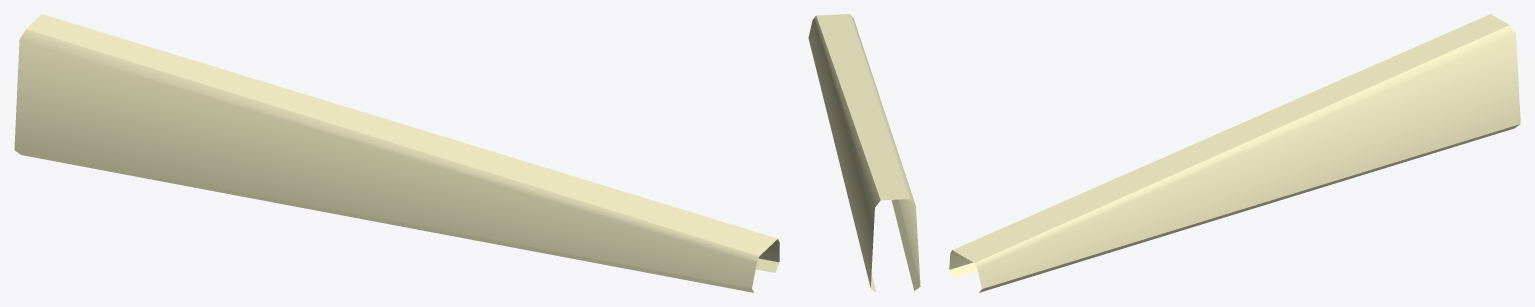
Rendered from original-9.obj.
The picture shows the model from 3 angles, left to right: view 1: azimuth 30°, elevation 25°; view 2: azimuth 150°, elevation 25°; view 3: azimuth 270°, elevation 25°; orthographic projection. The views are drawn at different scales.
Visible parts, largest first — view 1: mesh9/mesh9-geometry#mesh9-geometry; view 2: mesh9/mesh9-geometry#mesh9-geometry; view 3: mesh9/mesh9-geometry#mesh9-geometry.
Part boxes in pixels (x1,y1,x2,y2): mesh9/mesh9-geometry#mesh9-geometry: (14, 14, 779, 292); mesh9/mesh9-geometry#mesh9-geometry: (808, 14, 920, 292); mesh9/mesh9-geometry#mesh9-geometry: (949, 14, 1520, 292).
Size of the model in its own units: 0.3081 by 0.0796 by 0.4034.
